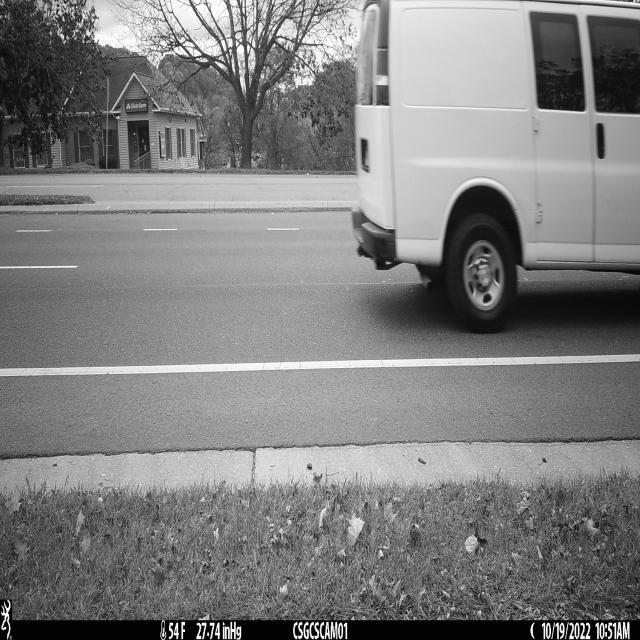Van: (351, 0, 640, 334)
